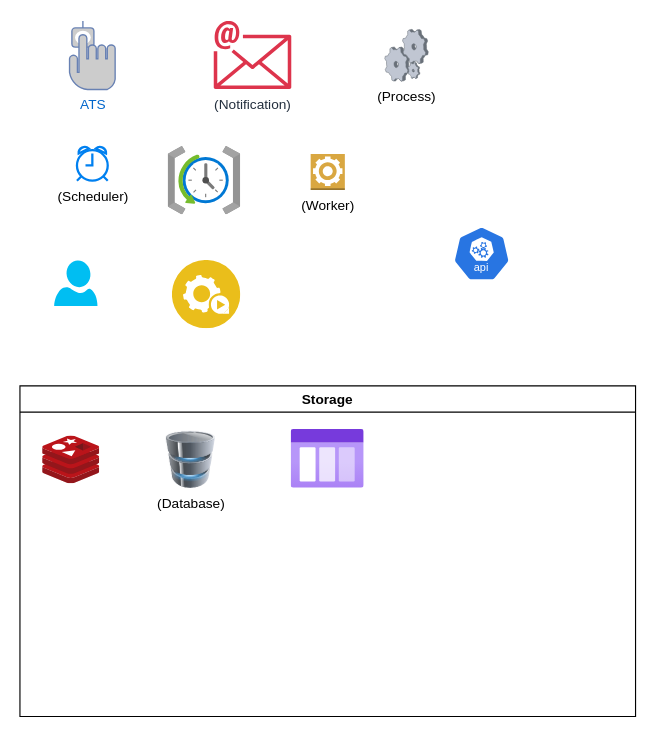
The diagram is 656 pixels wide and 736 high, and some of its shapes have lost their labels. Here are the shapes that lost their labels. From the top down, the centre of each, then its label:
pixel 204 180: (Job)
pixel 70 459: (Cache)
pixel 327 458: (Queue)
